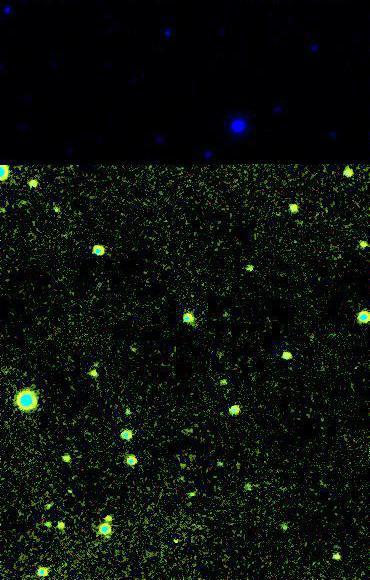star: (165, 525, 195, 555)
